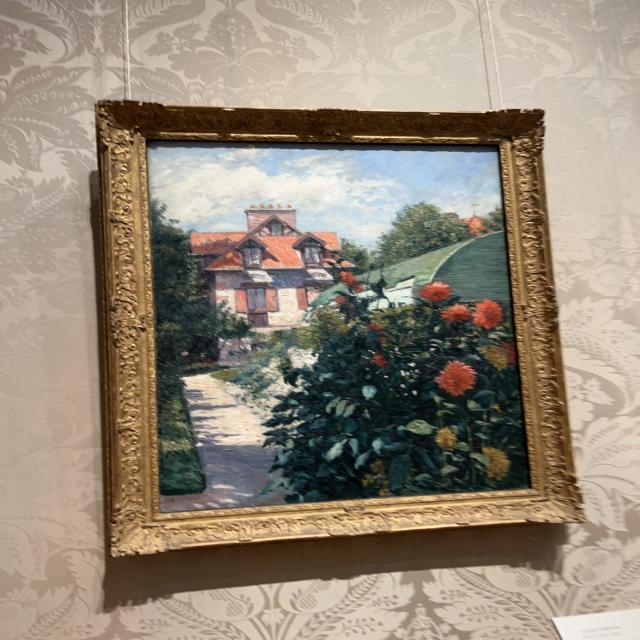summer: (148, 143, 532, 511)
